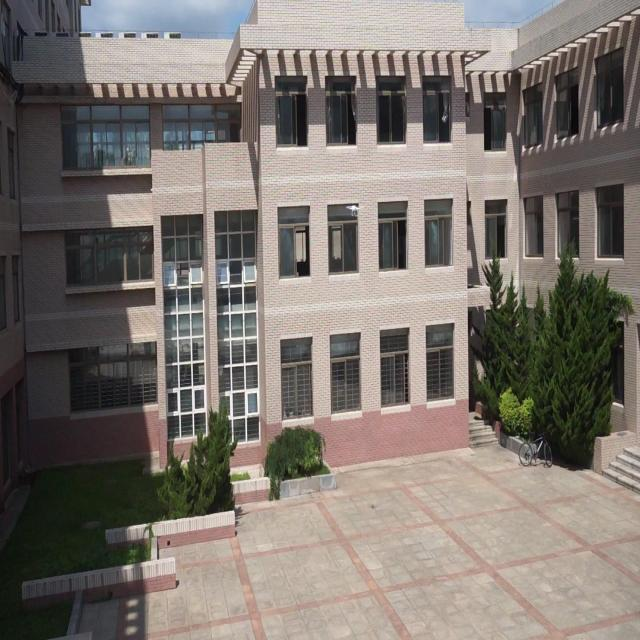UAV: (346, 205, 364, 216)
